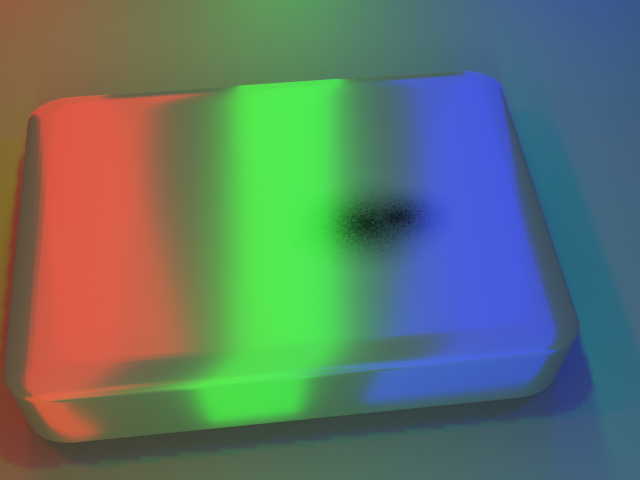stain: (281, 149, 527, 290)
